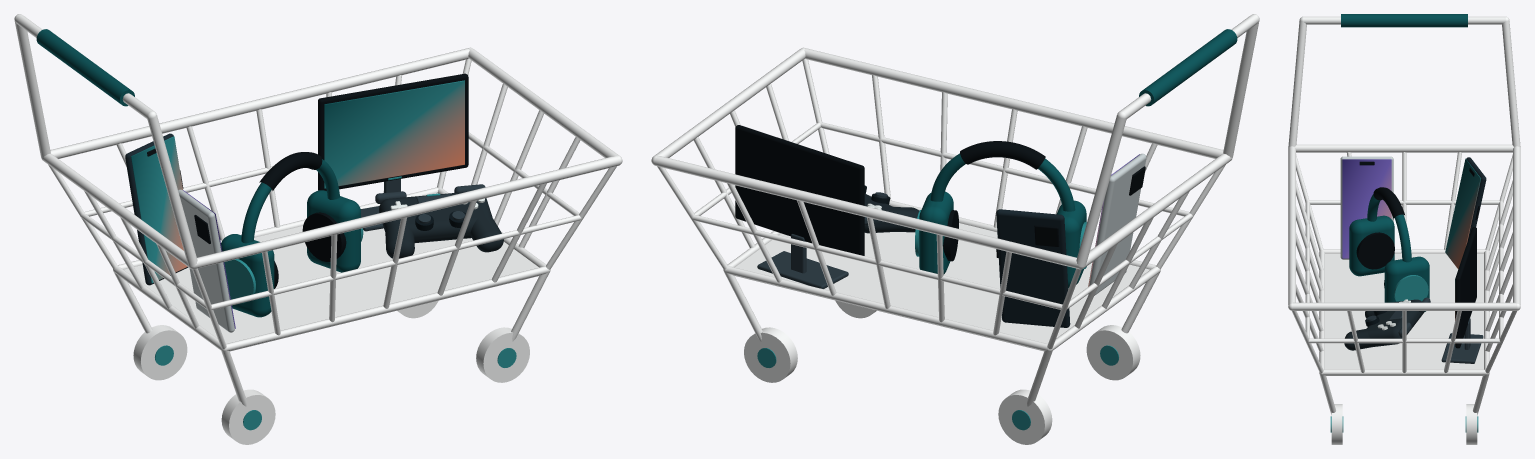
The model's file is loqta-cart-1.gltf.
The picture shows the model from 3 angles, left to right: view 1: azimuth 30°, elevation 25°; view 2: azimuth 150°, elevation 25°; view 3: azimuth 270°, elevation 25°; orthographic projection. The views are drawn at different scales.
Visible parts, largest first — view 1: Cart_white, Monitor_screen, Wheels_white, Headphones_teal_dark, Phone_screen, Controller_ctrl_body, Phone2_phone_silver, Monitor_phone_dark, Headphones_phone_dark, Cart_teal_dark, Headphones_teal, Wheels_teal (+2 smaller); view 2: Cart_white, Monitor_phone_dark, Wheels_white, Phone_phone_body, Headphones_teal_dark, Phone2_phone_silver, Cart_teal_dark, Headphones_phone_dark, Monitor_ctrl_dark, Wheels_teal, Controller_ctrl_body; view 3: Cart_white, Headphones_teal_dark, Phone2_screen, Phone_screen, Cart_teal_dark, Headphones_phone_dark, Monitor_phone_dark, Controller_ctrl_body, Wheels_white, Monitor_ctrl_dark, Headphones_teal, Phone2_phone_silver (+2 smaller).
Part boxes in pixels (left/top/right/bottom): Cart_white: left=14, top=14, right=622, bottom=406; Monitor_screen: left=324, top=80, right=464, bottom=188; Wheels_white: left=133, top=300, right=529, bottom=444; Headphones_teal_dark: left=221, top=159, right=360, bottom=317; Phone_screen: left=131, top=136, right=187, bottom=283; Controller_ctrl_body: left=379, top=192, right=503, bottom=258; Phone2_phone_silver: left=178, top=189, right=234, bottom=332; Monitor_phone_dark: left=318, top=73, right=468, bottom=190; Headphones_phone_dark: left=259, top=152, right=346, bottom=288; Cart_teal_dark: left=36, top=29, right=134, bottom=106; Headphones_teal: left=224, top=228, right=363, bottom=303; Wheels_teal: left=155, top=345, right=516, bottom=430; Cart_white: left=651, top=14, right=1259, bottom=406; Monitor_phone_dark: left=735, top=125, right=864, bottom=255; Wheels_white: left=744, top=300, right=1140, bottom=444; Phone_phone_body: left=996, top=209, right=1070, bottom=327; Headphones_teal_dark: left=919, top=153, right=1086, bottom=288; Phone2_phone_silver: left=1088, top=153, right=1146, bottom=295; Cart_teal_dark: left=1139, top=29, right=1237, bottom=106; Headphones_phone_dark: left=943, top=141, right=1045, bottom=261; Monitor_ctrl_dark: left=757, top=234, right=848, bottom=288; Wheels_teal: left=757, top=345, right=1118, bottom=430; Controller_ctrl_body: left=864, top=194, right=919, bottom=233; Cart_white: left=1288, top=16, right=1520, bottom=415; Headphones_teal_dark: left=1349, top=194, right=1429, bottom=312; Phone2_screen: left=1342, top=159, right=1391, bottom=258; Phone_screen: left=1445, top=158, right=1480, bottom=268; Cart_teal_dark: left=1341, top=14, right=1467, bottom=27; Headphones_phone_dark: left=1356, top=187, right=1404, bottom=287; Monitor_phone_dark: left=1455, top=227, right=1476, bottom=348; Controller_ctrl_body: left=1344, top=299, right=1423, bottom=350; Wheels_white: left=1331, top=404, right=1477, bottom=444; Monitor_ctrl_dark: left=1441, top=318, right=1483, bottom=363; Headphones_teal: left=1394, top=275, right=1428, bottom=301; Phone2_phone_silver: left=1340, top=156, right=1393, bottom=259.
Size of the model in its own units: 1.11 by 0.853 by 0.6209.
